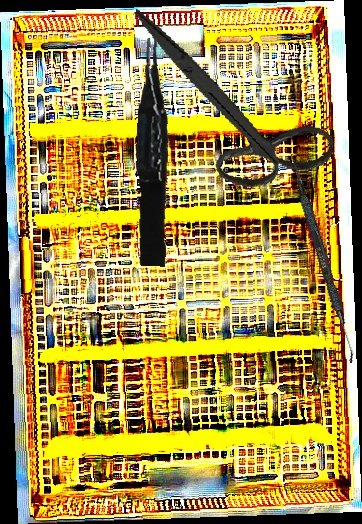Iris Scissors: (104, 7, 353, 204)
Spatula Surgical: (283, 152, 362, 364)
Tissue Forceps: (130, 37, 177, 267)
